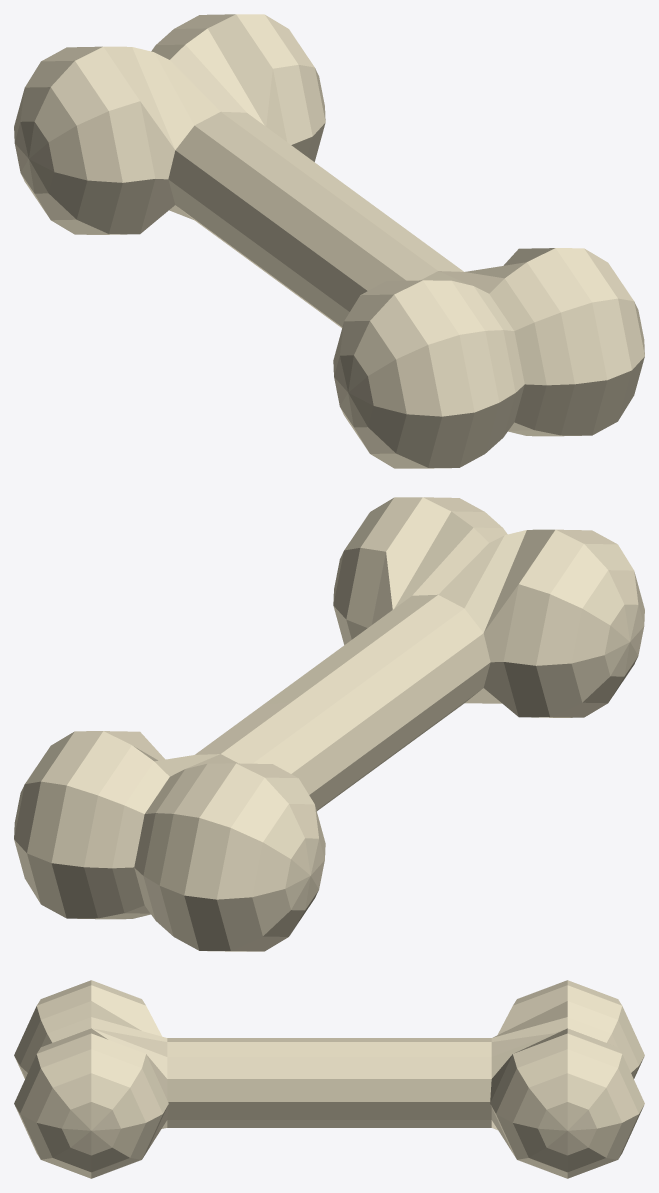
File: bOTO.fbx
3 renders of one model, top to bottom at view 1: azimuth 30°, elevation 25°; view 2: azimuth 150°, elevation 25°; view 3: azimuth 270°, elevation 25°, orthographic. The views are drawn at different scales.
Parts seen in each view (by area): view 1: pSphere7; view 2: pSphere7; view 3: pSphere7.
Boxes of the visible parts, <box> form: pSphere7: <box>14,14,644,468</box>; pSphere7: <box>14,497,644,951</box>; pSphere7: <box>14,980,644,1178</box>.
Size of the model in its own units: 3.13 by 2 by 8.15.
